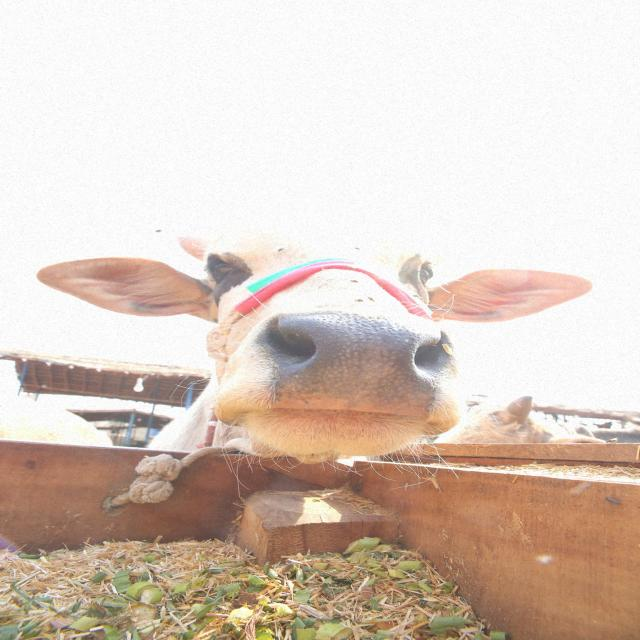muzzles: (246, 302, 469, 428)
